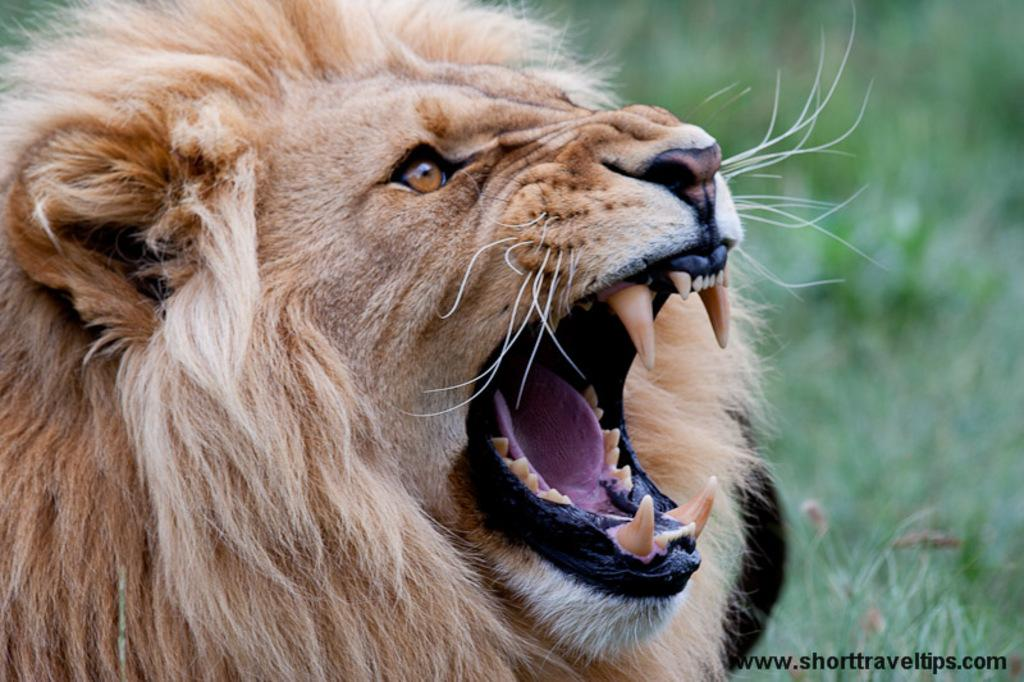lions: (0, 6, 848, 682)
